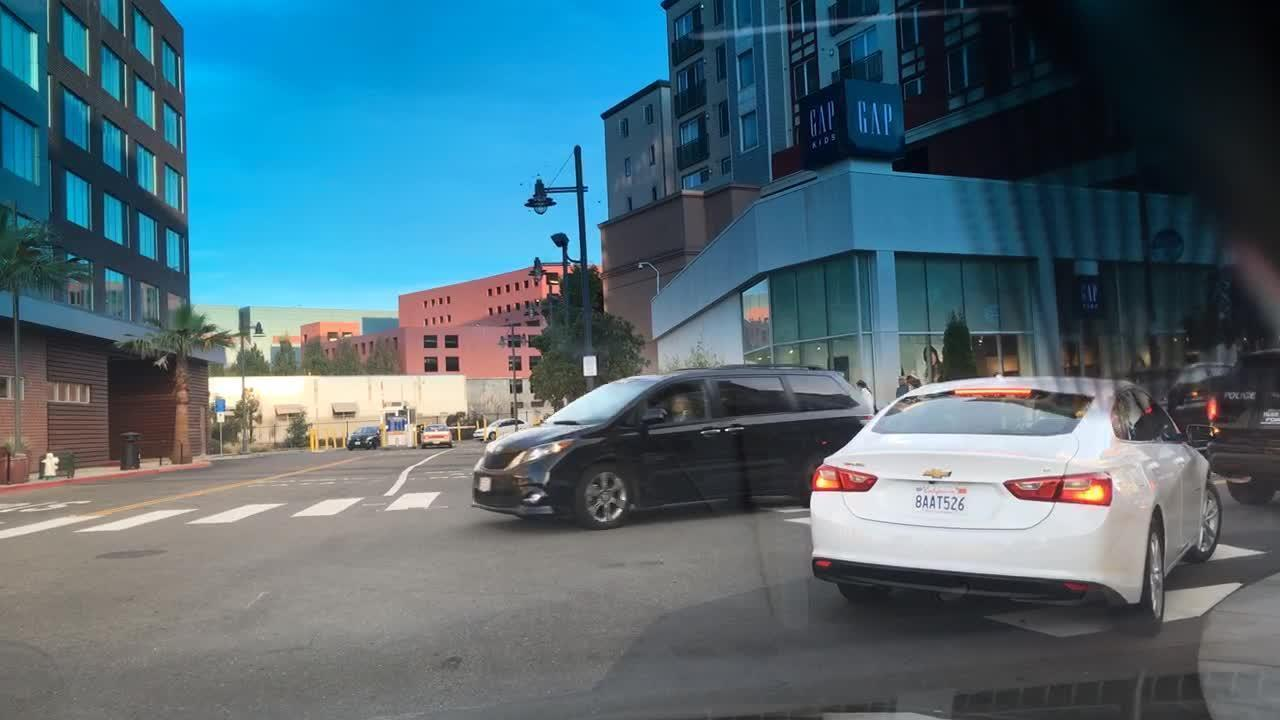chevrolet: (911, 455, 976, 498)
